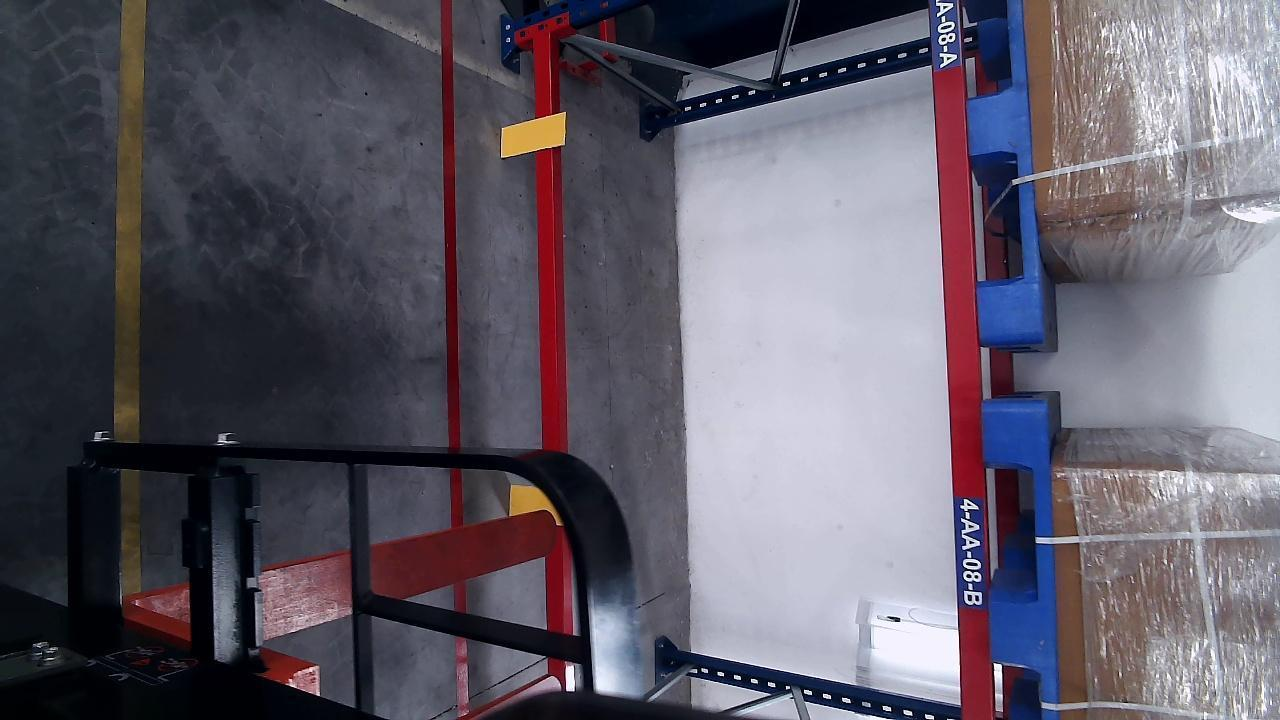red_line: (441, 1, 467, 720)
yellow_line: (118, 2, 150, 596)
